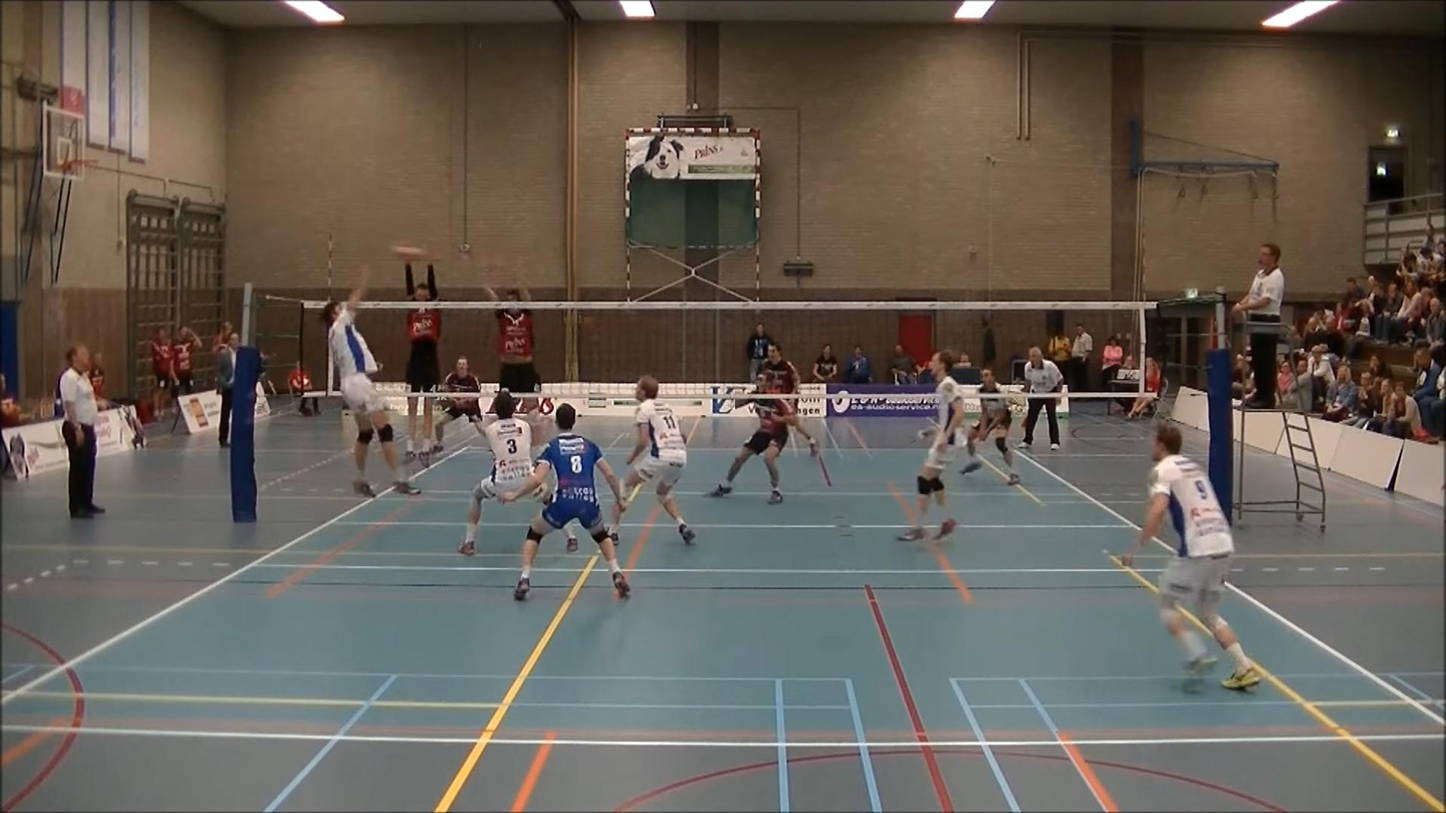Attack: (300, 264, 412, 504)
Block: (476, 264, 552, 440), (390, 239, 443, 476)
Player: (1119, 423, 1260, 689), (503, 404, 630, 600), (898, 351, 966, 540), (459, 390, 534, 555), (624, 376, 695, 544), (708, 373, 789, 504), (962, 368, 1020, 485), (433, 357, 482, 450), (779, 399, 819, 456)
ball: (390, 241, 426, 264)
